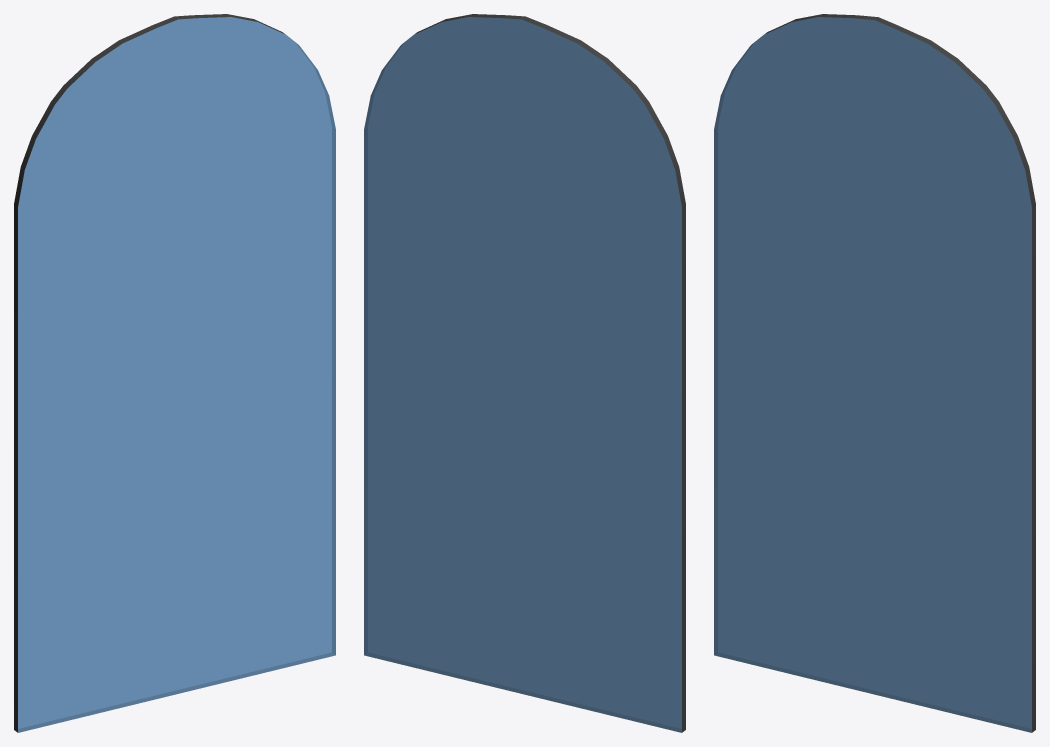
Rendered from Royal_Hall_Window_Round_1.FBX.
The picture shows the model from 3 angles, left to right: view 1: azimuth 30°, elevation 25°; view 2: azimuth 150°, elevation 25°; view 3: azimuth 330°, elevation 25°; orthographic projection.
Parts seen in each view (by area): view 1: Royal_Hall_Window_Round_1; view 2: Royal_Hall_Window_Round_1; view 3: Royal_Hall_Window_Round_1.
Boxes of the visible parts, x1,y1,x2,y2 form: Royal_Hall_Window_Round_1: (14, 14, 335, 732); Royal_Hall_Window_Round_1: (364, 14, 685, 732); Royal_Hall_Window_Round_1: (714, 14, 1035, 732).
Size of the model in its own units: 1.74 by 3.52 by 0.0386.
